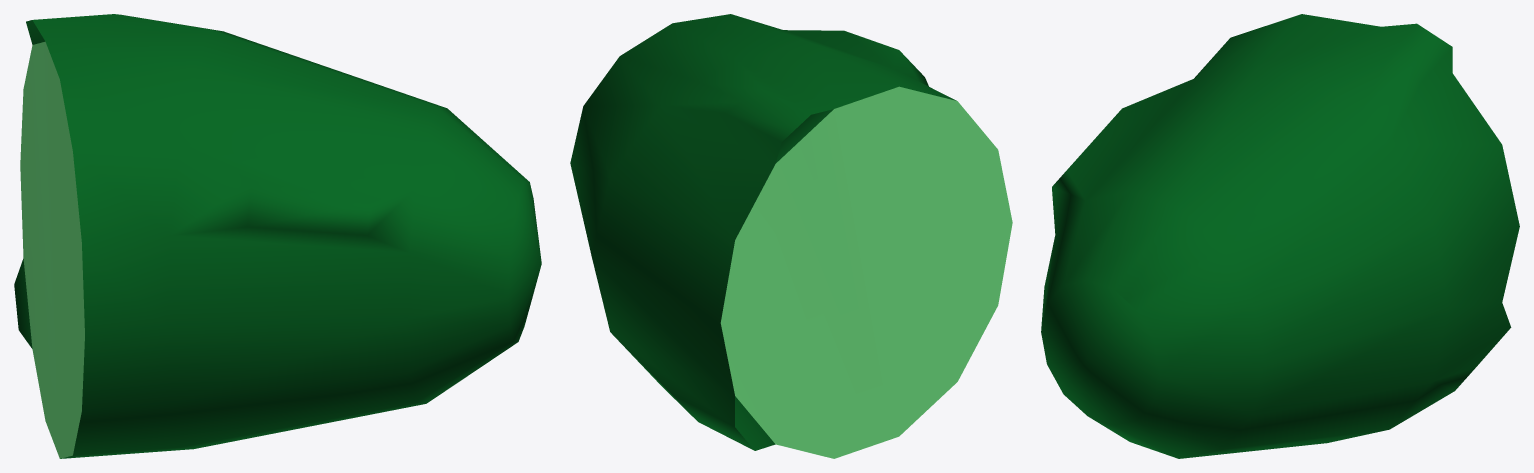
Rendered from mesh_Pickle_Stage11.fbx.
3 views of the same model, side by side, from view 1: azimuth 30°, elevation 25°; view 2: azimuth 150°, elevation 25°; view 3: azimuth 270°, elevation 25° (orthographic). The views are drawn at different scales.
Visible parts, largest first — view 1: mesh_Pickle_Stage11; view 2: mesh_Pickle_Stage11; view 3: mesh_Pickle_Stage11.
Part boxes in pixels (bbox=[...]): mesh_Pickle_Stage11: bbox=[14, 14, 541, 458]; mesh_Pickle_Stage11: bbox=[570, 14, 1012, 458]; mesh_Pickle_Stage11: bbox=[1041, 14, 1519, 458].
Size of the model in its own units: 0.0401 by 0.033 by 0.0397.
